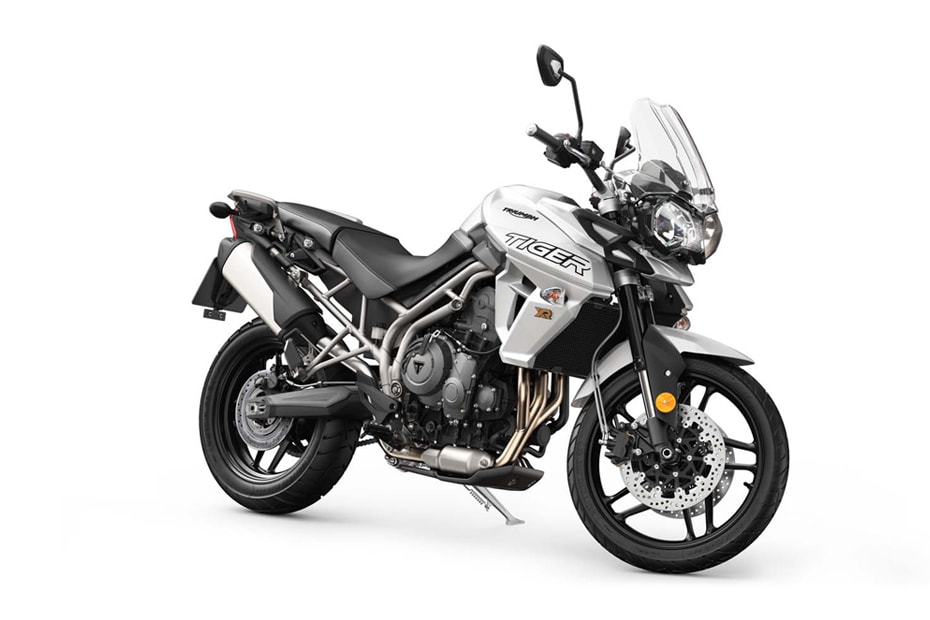motorcycle: (190, 129, 790, 574)
